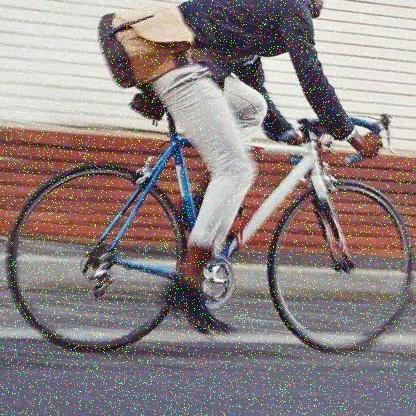Bicycle: (1, 84, 416, 375)
